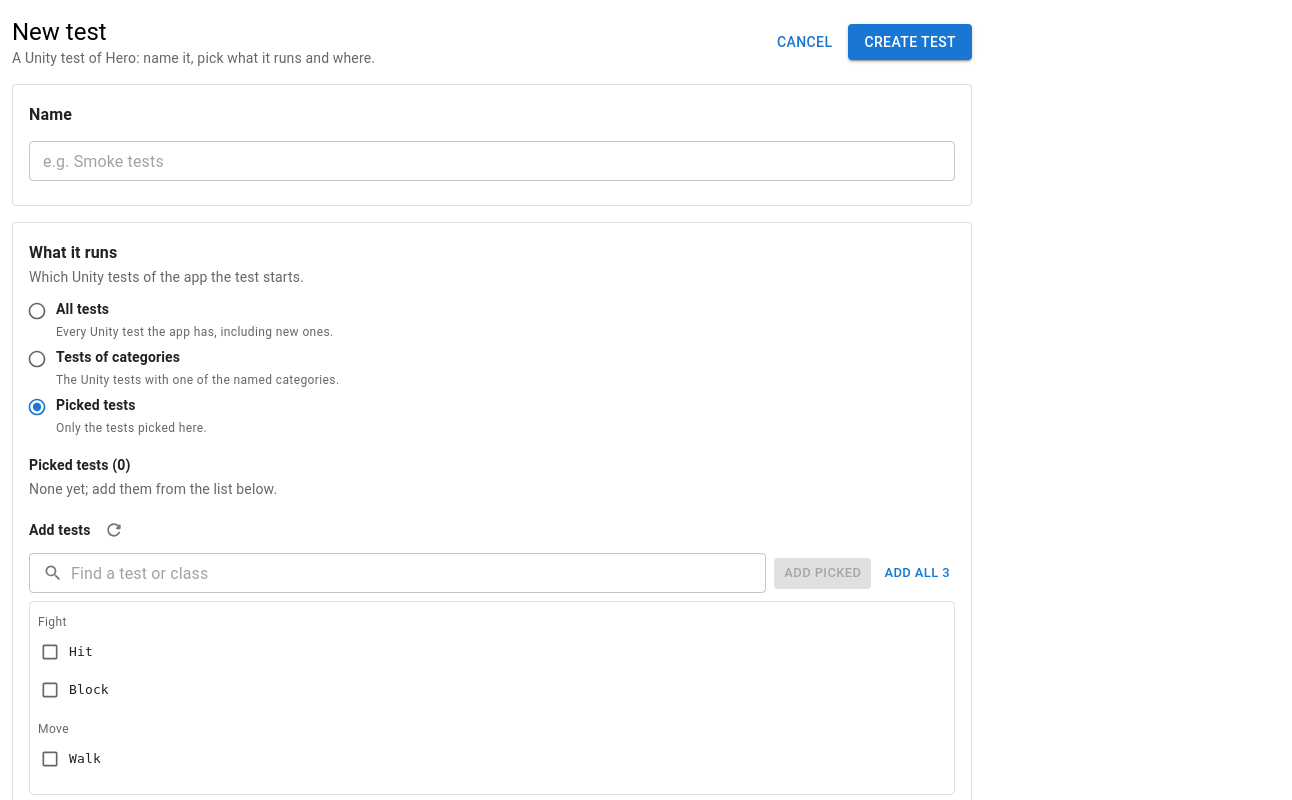
TestPicker creating › needs at least one test to create
The image size is (1292, 800).
Earlier steps of the test are not shown.
Type "Fights" into the field named "Name".
click(492, 161); type("Fights")  # box x1=29 y1=141 x2=955 y2=181
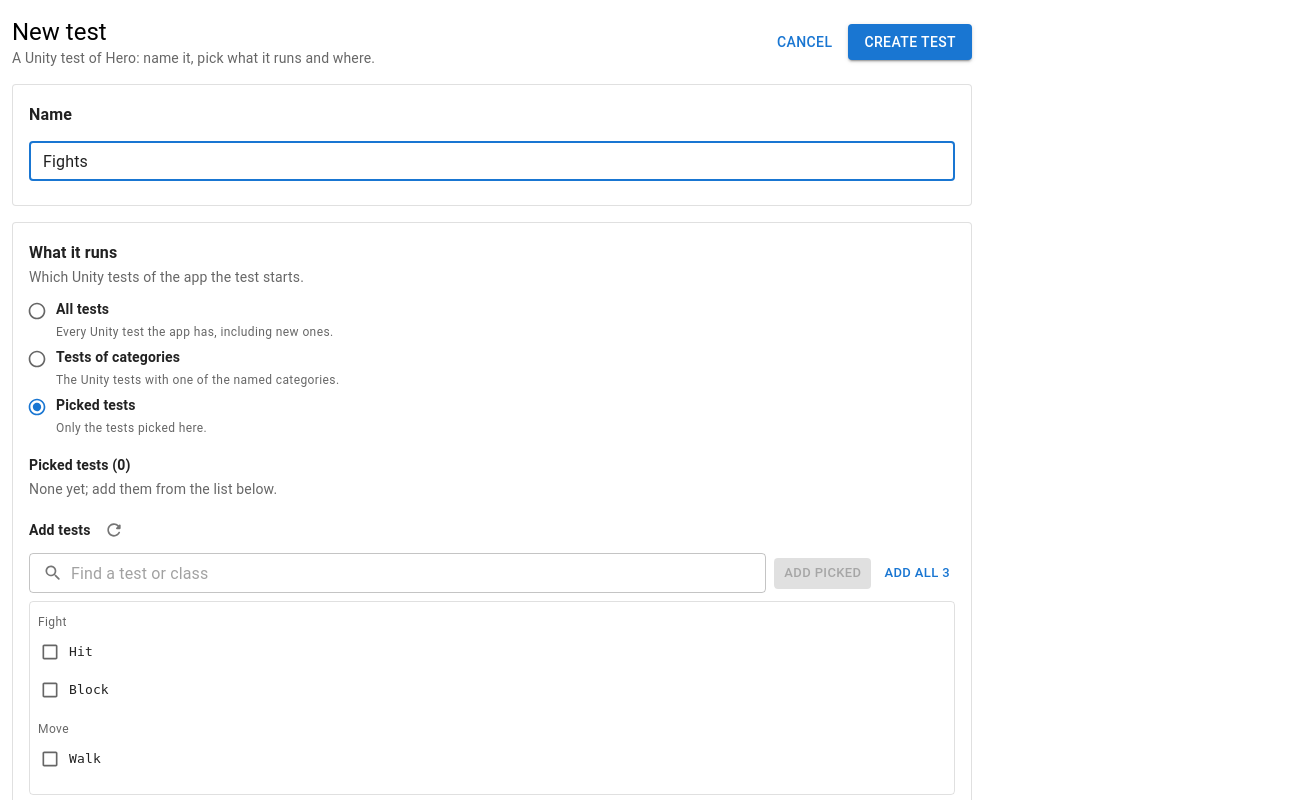
Click the button "Create test".
click(910, 42)  # box x1=848 y1=24 x2=972 y2=60
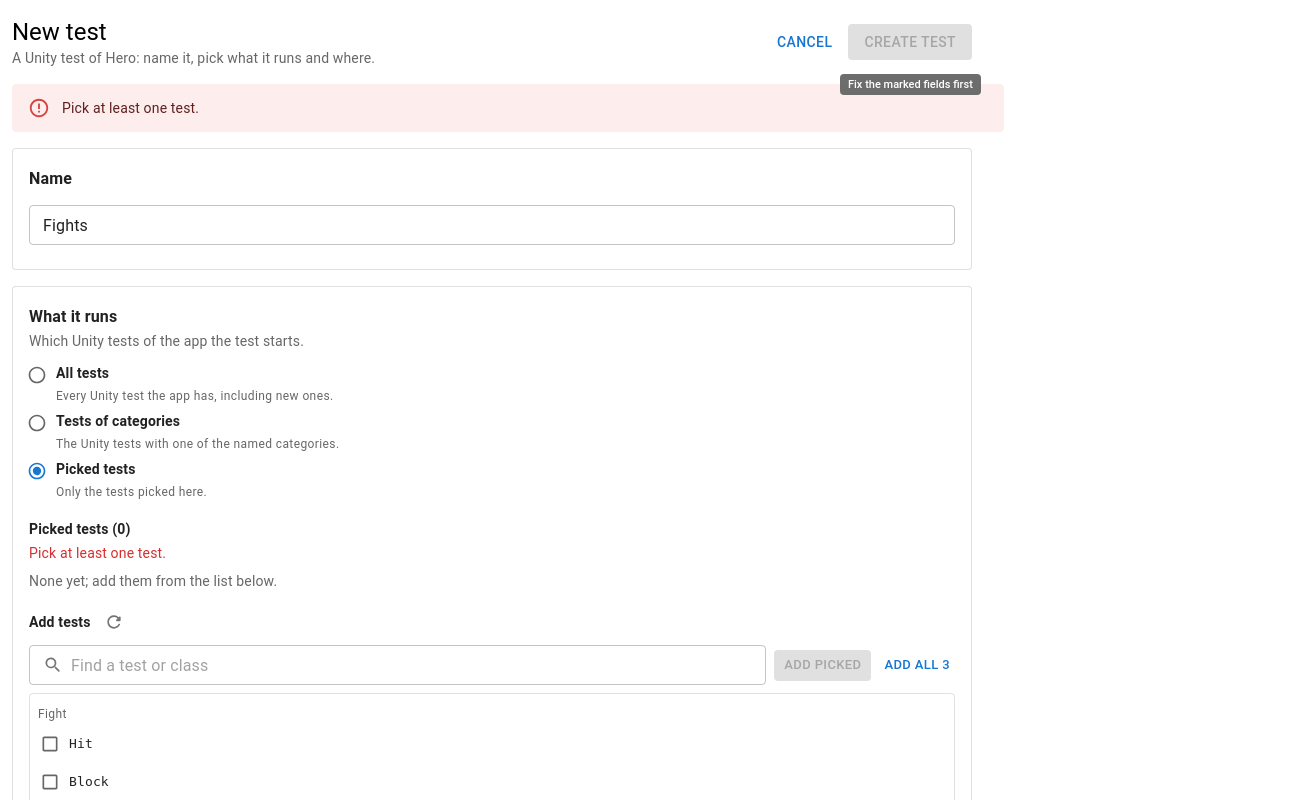
Result: the text "Pick at least one test." is shown 2 times at x1=62 y1=100 x2=199 y2=116; x1=29 y1=545 x2=166 y2=561
